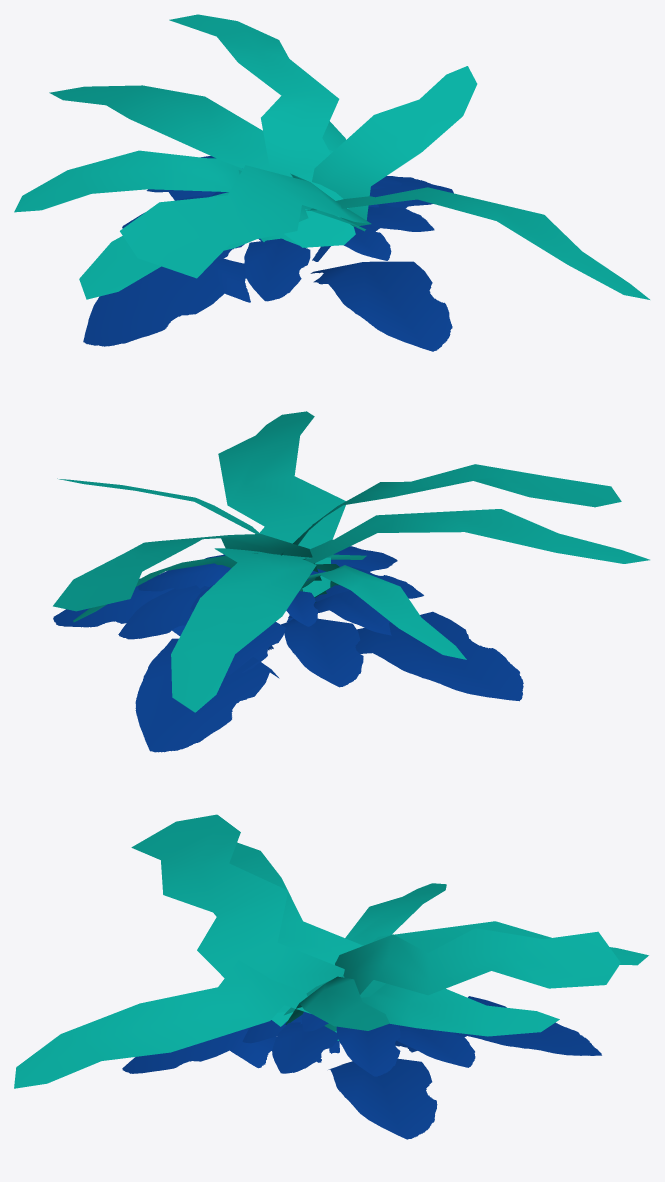
The model's file is SM_MediumlSwirl.fbx.
3 renders of one model, top to bottom at view 1: azimuth 30°, elevation 25°; view 2: azimuth 150°, elevation 25°; view 3: azimuth 270°, elevation 25°, orthographic. The views are drawn at different scales.
Parts seen in each view (by area): view 1: Freehand021; view 2: Freehand021; view 3: Freehand021.
Part boxes in pixels (<box>): Freehand021: <box>14,14,649,351</box>; Freehand021: <box>53,411,649,752</box>; Freehand021: <box>14,814,648,1139</box>.
Bounding box in the file's own units: 94.69 × 31.35 × 110.
